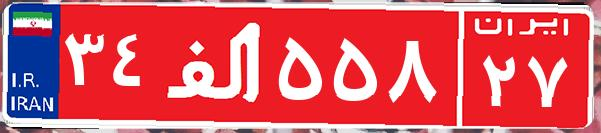2: (475, 38, 525, 113)
3: (57, 26, 110, 107)
4: (110, 28, 158, 105)
5: (273, 28, 330, 110), (330, 28, 385, 110)
7: (525, 38, 570, 115)
8: (385, 28, 445, 110)
الف: (158, 15, 273, 115)
